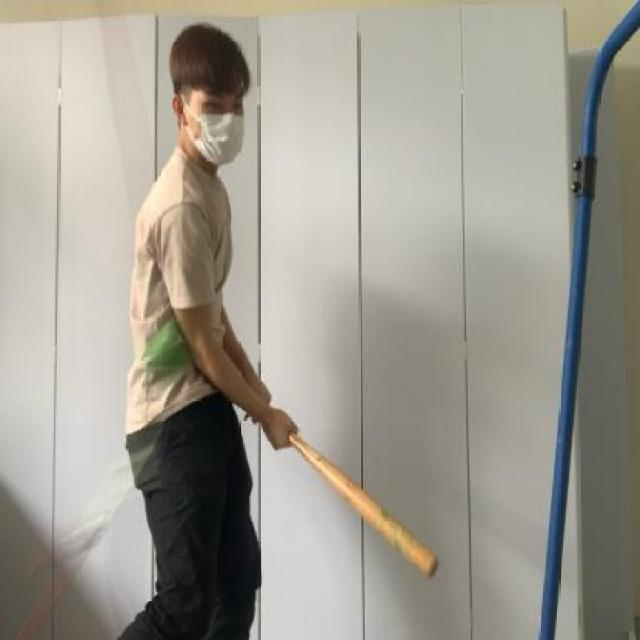baseball: (135, 295, 210, 400)
